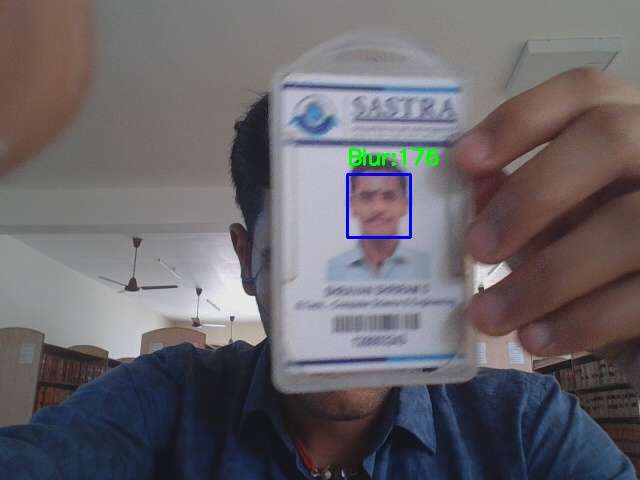fake: (347, 174, 410, 237)
